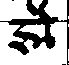ai_matra: (26, 0, 55, 20)
